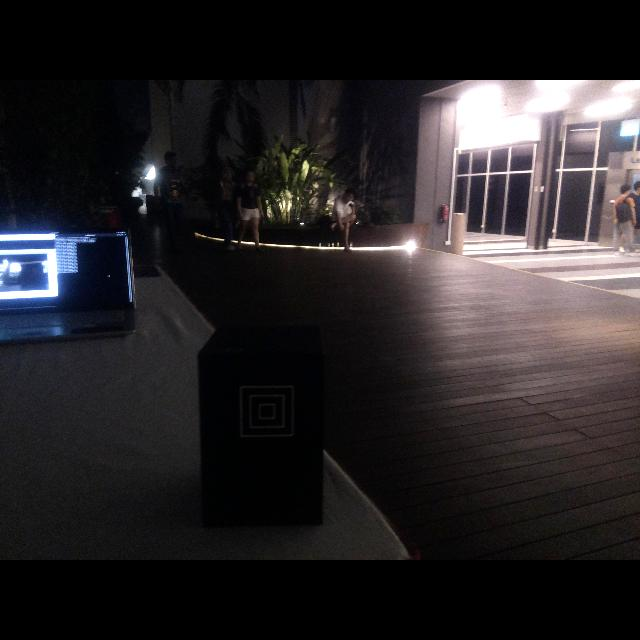BULLSEYE: (240, 386, 294, 437)
